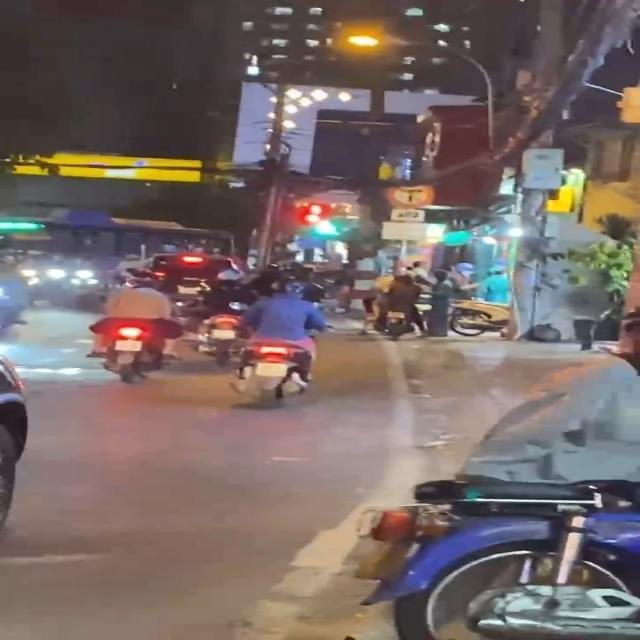137-cam-re-trai-va-re-phai: (385, 180, 435, 207)
